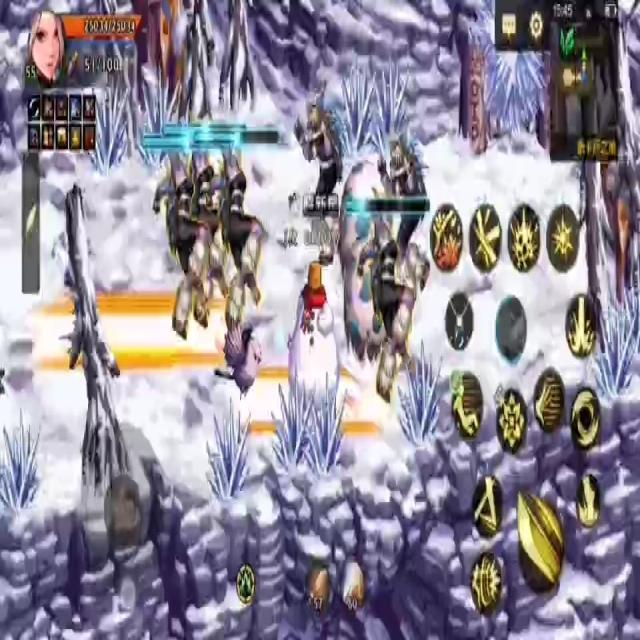player: (286, 251, 342, 424)
